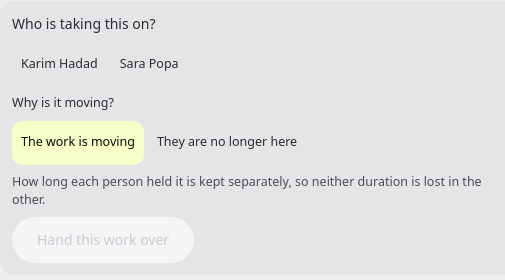
Test case: what it says afterwards › says the successor is set aside from the evidence when the previous person left
Click the button "Karim Hadad" at [59, 64], box [12, 42, 107, 86]
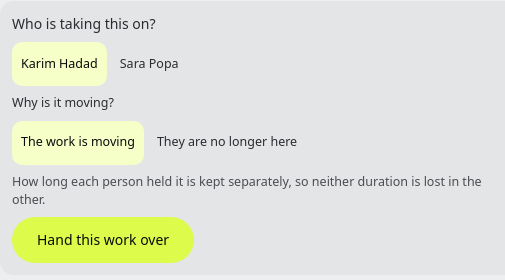
Click the button "They are no longer here" at [227, 143], box [148, 121, 306, 165]
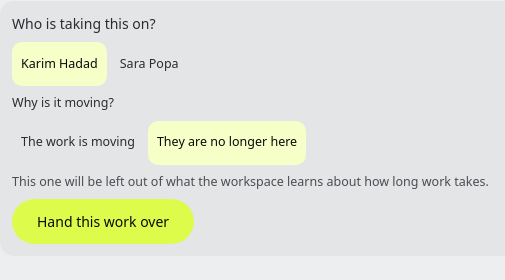
Click the button "Hand this work over" at [103, 222], box [12, 199, 194, 244]
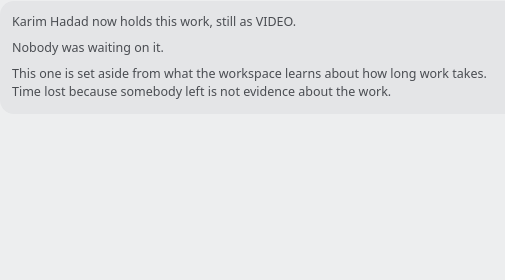
Expected: the text "set aside from what the workspace learns" is shown, [12, 65, 487, 100]
